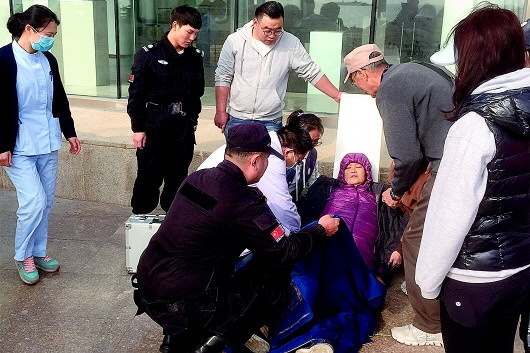falling: (252, 141, 393, 353)
